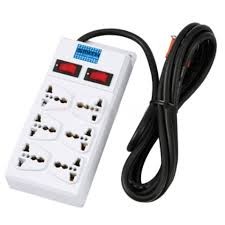Three_eye_plug: (2, 20, 219, 209)
